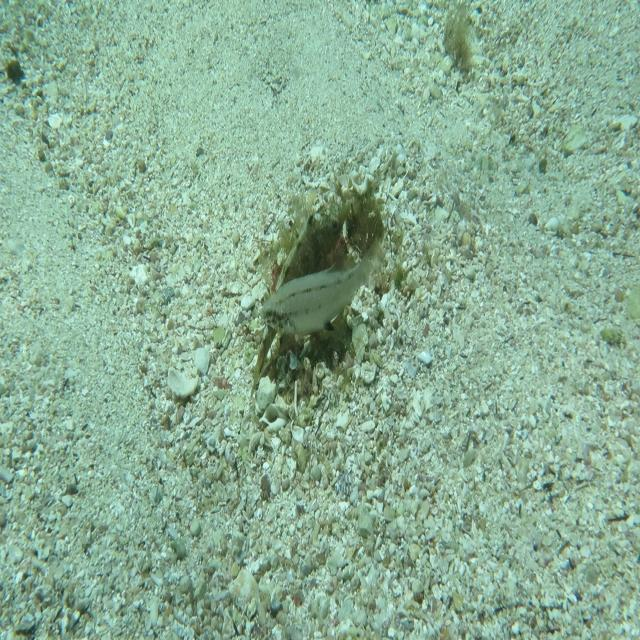FAN: (250, 194, 351, 399)
core_nest: (313, 197, 372, 255)
female: (258, 238, 388, 335)
nest: (247, 162, 392, 402)
